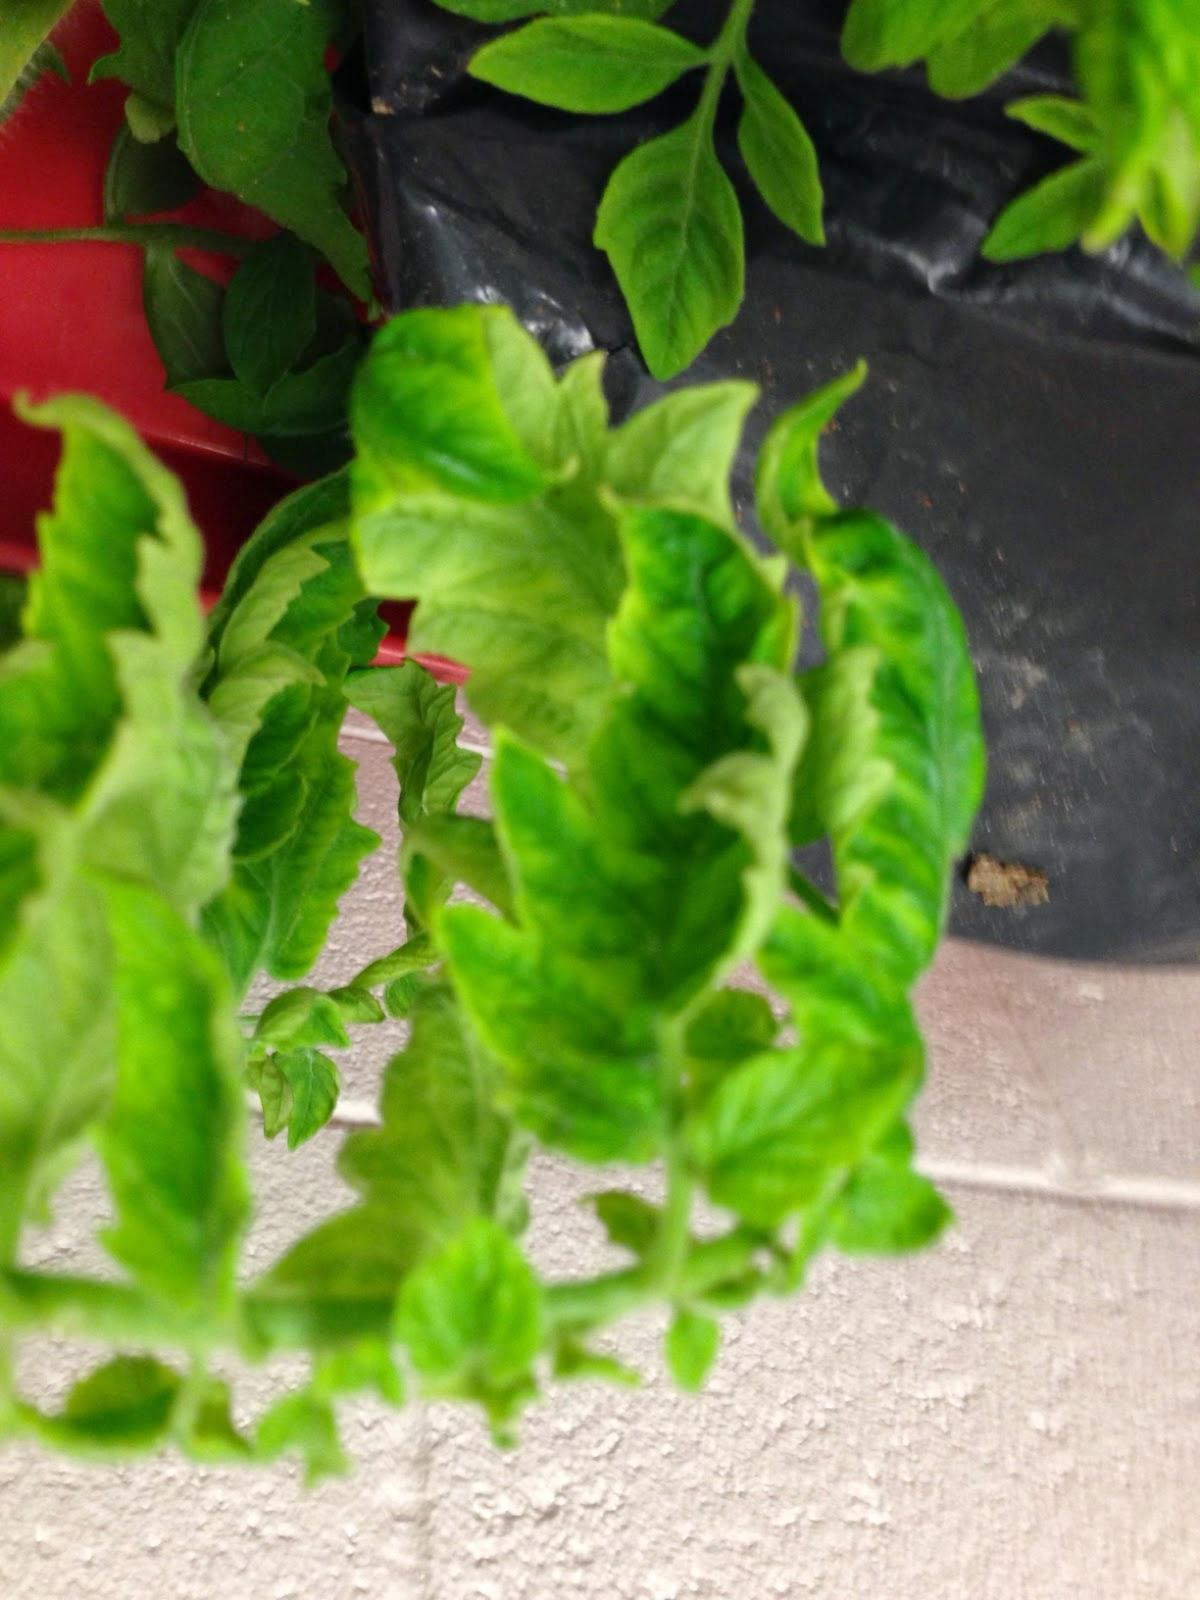Tomato leaf yellow virus: (476, 458, 819, 1220), (804, 493, 1064, 1404), (89, 855, 287, 1367), (600, 105, 758, 373)
